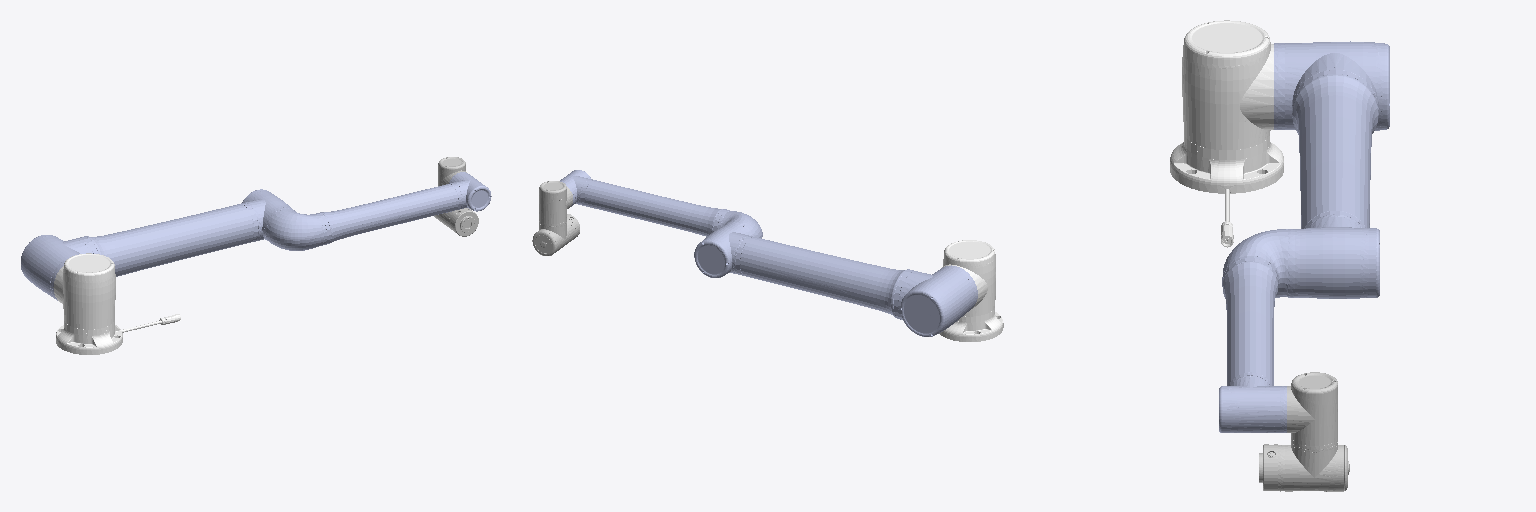
The robot description file, URDF, robot "jaka_zu20":
<?xml version="1.0" encoding="utf-8"?>
<!-- This URDF was automatically created by SolidWorks to URDF Exporter! Originally created by [author] ([email redacted]) 
     Commit Version: 1.6.0-4-g7f85cfe  Build Version: 1.6.7995.38578
     For more information, please see http://wiki.ros.org/sw_urdf_exporter -->
<robot
  name="jaka_zu20">

  <link name="world" />

  
  <link
    name="base_link">
    <inertial>
      <origin
        xyz="0.012963 -0.00022478 0.033142"
        rpy="0 0 0" />
      <mass
        value="1.8939" />
      <inertia
        ixx="0.0071692"
        ixy="8.0474E-07"
        ixz="0.0004402"
        iyy="0.012392"
        iyz="2.3506E-06"
        izz="0.018321" />
    </inertial>
    <visual>
      <origin
        xyz="0 0 0"
        rpy="0 0 0" />
      <geometry>
        <mesh
          filename="package://jaka_description/meshes/jaka_zu20_meshes/base_link.STL" />
      </geometry>
      <material
        name="">
        <color
          rgba="1 1 1 1" />
      </material>
    </visual>
    <collision>
      <origin
        xyz="0 0 0"
        rpy="0 0 0" />
      <geometry>
        <mesh
          filename="package://jaka_description/meshes/jaka_zu20_meshes/base_link.STL" />
      </geometry>
    </collision>
  </link>

  <!-- JOINT -->
  <joint name="fixed" type="fixed">
     <origin xyz="0.005 0 0" rpy="0 0 0" />
     <parent link="world"/>
     <child link="base_link"/>
  </joint>

  <link
    name="Link_01">
    <inertial>
      <origin
        xyz="-8.8545E-07 0.0056159 -0.0066182"
        rpy="0 0 0" />
      <mass
        value="7.5342" />
      <inertia
        ixx="0.055309"
        ixy="1.1485E-07"
        ixz="1.4167E-07"
        iyy="0.053715"
        iyz="-0.00019612"
        izz="0.037383" />
    </inertial>
    <visual>
      <origin
        xyz="0 0 0"
        rpy="0 0 0" />
      <geometry>
        <mesh
          filename="package://jaka_description/meshes/jaka_zu20_meshes/Link_01.STL" />
      </geometry>
      <material
        name="">
        <color
          rgba="1 1 1 1" />
      </material>
    </visual>
    <collision>
      <origin
        xyz="0 0 0"
        rpy="0 0 0" />
      <geometry>
        <mesh
          filename="package://jaka_description/meshes/jaka_zu20_meshes/Link_01.STL" />
      </geometry>
    </collision>
  </link>
  <joint
    name="joint_1"
    type="revolute">
    <origin
      xyz="0.0044104 -0.00027834 0.1965"
      rpy="0 0 0" />
    <parent
      link="base_link" />
    <child
      link="Link_01" />
    <axis
      xyz="0 0 1" />
    <limit
      lower="-6.28"
      upper="6.28"
      effort="3000"
      velocity="2.09" />
  </joint>
  <link
    name="Link_02">
    <inertial>
      <origin
        xyz="0.3763 -9.3278E-08 -0.22998"
        rpy="0 0 0" />
      <mass
        value="24.858" />
      <inertia
        ixx="0.11252"
        ixy="-3.916E-06"
        ixz="0.012097"
        iyy="2.799"
        iyz="-2.2648E-07"
        izz="2.7752" />
    </inertial>
    <visual>
      <origin
        xyz="0 0 0"
        rpy="0 0 0" />
      <geometry>
        <mesh
          filename="package://jaka_description/meshes/jaka_zu20_meshes/Link_02.STL" />
      </geometry>
      <material
        name="">
        <color
          rgba="0.79216 0.81961 0.93333 1" />
      </material>
    </visual>
    <collision>
      <origin
        xyz="0 0 0"
        rpy="0 0 0" />
      <geometry>
        <mesh
          filename="package://jaka_description/meshes/jaka_zu20_meshes/Link_02.STL" />
      </geometry>
    </collision>
  </link>
  <joint
    name="joint_2"
    type="revolute">
    <origin
      xyz="0 0 0"
      rpy="1.5708 0 0" />
    <parent
      link="Link_01" />
    <child
      link="Link_02" />
    <axis
      xyz="0 0 1" />
    <limit
      lower="-1.48"
      upper="4.62"
      effort="9000"
      velocity="2.09" />
  </joint>
  <link
    name="Link_03">
    <inertial>
      <origin
        xyz="0.34361 -6.4382E-07 -0.055927"
        rpy="0 0 0" />
      <mass
        value="8.3486" />
      <inertia
        ixx="0.01537"
        ixy="-3.2986E-06"
        ixz="-0.012094"
        iyy="0.59177"
        iyz="-4.9047E-08"
        izz="0.58985" />
    </inertial>
    <visual>
      <origin
        xyz="0 0 0"
        rpy="0 0 0" />
      <geometry>
        <mesh
          filename="package://jaka_description/meshes/jaka_zu20_meshes/Link_03.STL" />
      </geometry>
      <material
        name="">
        <color
          rgba="0.79216 0.81961 0.93333 1" />
      </material>
    </visual>
    <collision>
      <origin
        xyz="0 0 0"
        rpy="0 0 0" />
      <geometry>
        <mesh
          filename="package://jaka_description/meshes/jaka_zu20_meshes/Link_03.STL" />
      </geometry>
    </collision>
  </link>
  <joint
    name="joint_3"
    type="revolute">
    <origin
      xyz="0.897 0 0"
      rpy="0 0 0" />
    <parent
      link="Link_02" />
    <child
      link="Link_03" />
    <axis
      xyz="0 0 1" />
    <limit
      lower="-3.05"
      upper="3.05"
      effort="9000"
      velocity="2.09" />
  </joint>
  <link
    name="Link_04">
    <inertial>
      <origin
        xyz="-4.9353E-08 -0.0057267 0.0052352"
        rpy="0 0 0" />
      <mass
        value="1.2892" />
      <inertia
        ixx="0.0031175"
        ixy="1.6387E-09"
        ixz="-4.7004E-09"
        iyy="0.0019091"
        iyz="-3.865E-05"
        izz="0.0029354" />
    </inertial>
    <visual>
      <origin
        xyz="0 0 0"
        rpy="0 0 0" />
      <geometry>
        <mesh
          filename="package://jaka_description/meshes/jaka_zu20_meshes/Link_04.STL" />
      </geometry>
      <material
        name="">
        <color
          rgba="0.84706 0.84706 0.84706 1" />
      </material>
    </visual>
    <collision>
      <origin
        xyz="0 0 0"
        rpy="0 0 0" />
      <geometry>
        <mesh
          filename="package://jaka_description/meshes/jaka_zu20_meshes/Link_04.STL" />
      </geometry>
    </collision>
  </link>
  <joint
    name="joint_4"
    type="revolute">
    <origin
      xyz="0.7445 0 -0.18835"
      rpy="0 0 0" />
    <parent
      link="Link_03" />
    <child
      link="Link_04" />
    <axis
      xyz="0 0 1" />
    <limit
      lower="-1.48"
      upper="4.62"
      effort="6000"
      velocity="3.84" />
  </joint>
  <link
    name="Link_05">
    <inertial>
      <origin
        xyz="4.0193E-08 -0.0051183 0.0035719"
        rpy="0 0 0" />
      <mass
        value="1.33" />
      <inertia
        ixx="0.003343"
        ixy="-4.8841E-09"
        ixz="3.6485E-10"
        iyy="0.0031635"
        iyz="-2.4314E-05"
        izz="0.0019534" />
    </inertial>
    <visual>
      <origin
        xyz="0 0 0"
        rpy="-1.5708 3.1415 0" />
      <geometry>
        <mesh
          filename="package://jaka_description/meshes/jaka_zu20_meshes/Link_05.STL" />
      </geometry>
      <material
        name="">
        <color
          rgba="0.84706 0.84706 0.84706 1" />
      </material>
    </visual>
    <collision>
      <origin
        xyz="0 0 0"
        rpy="-1.5708 3.1415 0" />
      <geometry>
        <mesh
          filename="package://jaka_description/meshes/jaka_zu20_meshes/Link_05.STL" />
      </geometry>
    </collision>
  </link>
  <joint
    name="joint_5"
    type="revolute">
    <origin
      xyz="0 -0.1385 0"
      rpy="1.5708 0 0" />
    <parent
      link="Link_04" />
    <child
      link="Link_05" />
    <axis
      xyz="0 0 1" />
    <limit
      lower="-6.28"
      upper="6.28"
      effort="6000"
      velocity="3.84" />
  </joint>
  <link
    name="Link_06">
    <inertial>
      <origin
        xyz="-0.00024633 0.00010625 -0.024169"
        rpy="0 0 0" />
      <mass
        value="0.27866" />
      <inertia
        ixx="0.00019717"
        ixy="-2.4932E-08"
        ixz="-1.064E-07"
        iyy="0.00020258"
        iyz="-2.3745E-08"
        izz="0.00033606" />
    </inertial>
    <visual>
      <origin
        xyz="0 0 0"
        rpy="0 0 0" />
      <geometry>
        <mesh
          filename="package://jaka_description/meshes/jaka_zu20_meshes/Link_06.STL" />
      </geometry>
      <material
        name="">
        <color
          rgba="0.84706 0.84706 0.84706 1" />
      </material>
    </visual>
    <collision>
      <origin
        xyz="0 0 0"
        rpy="0 0 0" />
      <geometry>
        <mesh
          filename="package://jaka_description/meshes/jaka_zu20_meshes/Link_06.STL" />
      </geometry>
    </collision>
  </link>
  <joint
    name="joint_6"
    type="revolute">
    <origin
      xyz="-0.00025841  0.1205 0.00025841"
      rpy="-1.5708 0 0" />
    <parent
      link="Link_05" />
    <child
      link="Link_06" />
    <axis
      xyz="0 0 1" />
    <limit
      lower="-6.28"
      upper="6.28"
      effort="2000"
      velocity="3.84" />
  </joint>

  <transmission name="trans_joint_1">
    <type>transmission_interface/SimpleTransmission</type>
    <joint name="joint_1">
      <hardwareInterface>hardware_interface/PositionJointInterface</hardwareInterface>
    </joint>
    <actuator name="joint_1_motor">
      <hardwareInterface>hardware_interface/PositionJointInterface</hardwareInterface>
      <mechanicalReduction>1</mechanicalReduction>
    </actuator>
  </transmission>
  <transmission name="trans_joint_2">
    <type>transmission_interface/SimpleTransmission</type>
    <joint name="joint_2">
      <hardwareInterface>hardware_interface/PositionJointInterface</hardwareInterface>
    </joint>
    <actuator name="joint_2_motor">
      <hardwareInterface>hardware_interface/PositionJointInterface</hardwareInterface>
      <mechanicalReduction>1</mechanicalReduction>
    </actuator>
  </transmission>
  <transmission name="trans_joint_3">
    <type>transmission_interface/SimpleTransmission</type>
    <joint name="joint_3">
      <hardwareInterface>hardware_interface/PositionJointInterface</hardwareInterface>
    </joint>
    <actuator name="joint_3_motor">
      <hardwareInterface>hardware_interface/PositionJointInterface</hardwareInterface>
      <mechanicalReduction>1</mechanicalReduction>
    </actuator>
  </transmission>
  <transmission name="trans_joint_4">
    <type>transmission_interface/SimpleTransmission</type>
    <joint name="joint_4">
      <hardwareInterface>hardware_interface/PositionJointInterface</hardwareInterface>
    </joint>
    <actuator name="joint_4_motor">
      <hardwareInterface>hardware_interface/PositionJointInterface</hardwareInterface>
      <mechanicalReduction>1</mechanicalReduction>
    </actuator>
  </transmission>
  <transmission name="trans_joint_5">
    <type>transmission_interface/SimpleTransmission</type>
    <joint name="joint_5">
      <hardwareInterface>hardware_interface/PositionJointInterface</hardwareInterface>
    </joint>
    <actuator name="joint_5_motor">
      <hardwareInterface>hardware_interface/PositionJointInterface</hardwareInterface>
      <mechanicalReduction>1</mechanicalReduction>
    </actuator>
  </transmission>
  <transmission name="trans_joint_6">
    <type>transmission_interface/SimpleTransmission</type>
    <joint name="joint_6">
      <hardwareInterface>hardware_interface/PositionJointInterface</hardwareInterface>
    </joint>
    <actuator name="joint_6_motor">
      <hardwareInterface>hardware_interface/PositionJointInterface</hardwareInterface>
      <mechanicalReduction>1</mechanicalReduction>
    </actuator>
  </transmission>
  <gazebo>
    <plugin name="gazebo_ros_control" filename="libgazebo_ros_control.so">
      <robotNamespace>/</robotNamespace>
    </plugin>
  </gazebo>
</robot>

--- Render facts (derived) ---
3 views of the same robot in one strip: view 1: azimuth 30°, elevation 25°; view 2: azimuth 150°, elevation 25°; view 3: azimuth 270°, elevation 25° (orthographic).
Model jaka_zu20 with 8 links and 7 joints (6 revolute, 1 fixed), rooted at world, posed all joints at 0.
Visible links, largest first — view 1: Link_02, Link_03, Link_01, base_link, Link_06, Link_04; view 2: Link_02, Link_03, Link_01, Link_04, base_link, Link_05; view 3: Link_02, Link_01, Link_03, base_link, Link_04, Link_05, Link_06.
Boxes of the visible links, <box> form: Link_02: <box>21,189,294,300</box>; Link_03: <box>266,172,491,250</box>; Link_01: <box>53,253,115,335</box>; base_link: <box>56,314,180,354</box>; Link_06: <box>451,208,478,236</box>; Link_04: <box>438,157,466,185</box>; Link_02: <box>694,221,977,336</box>; Link_03: <box>560,170,762,238</box>; Link_01: <box>942,240,995,322</box>; Link_04: <box>539,181,572,227</box>; base_link: <box>939,312,1003,341</box>; Link_05: <box>532,218,575,255</box>; Link_02: <box>1274,41,1389,298</box>; Link_01: <box>1182,20,1273,159</box>; Link_03: <box>1219,229,1287,432</box>; base_link: <box>1170,142,1283,247</box>; Link_04: <box>1287,372,1337,452</box>; Link_05: <box>1278,443,1349,491</box>; Link_06: <box>1259,444,1277,490</box>.
Size in the robot's own frame: 1.81 by 0.473 by 0.3214 metres.
Meshes: 7 distinct files referenced, 7 mesh visuals loaded (7 binary STL).
